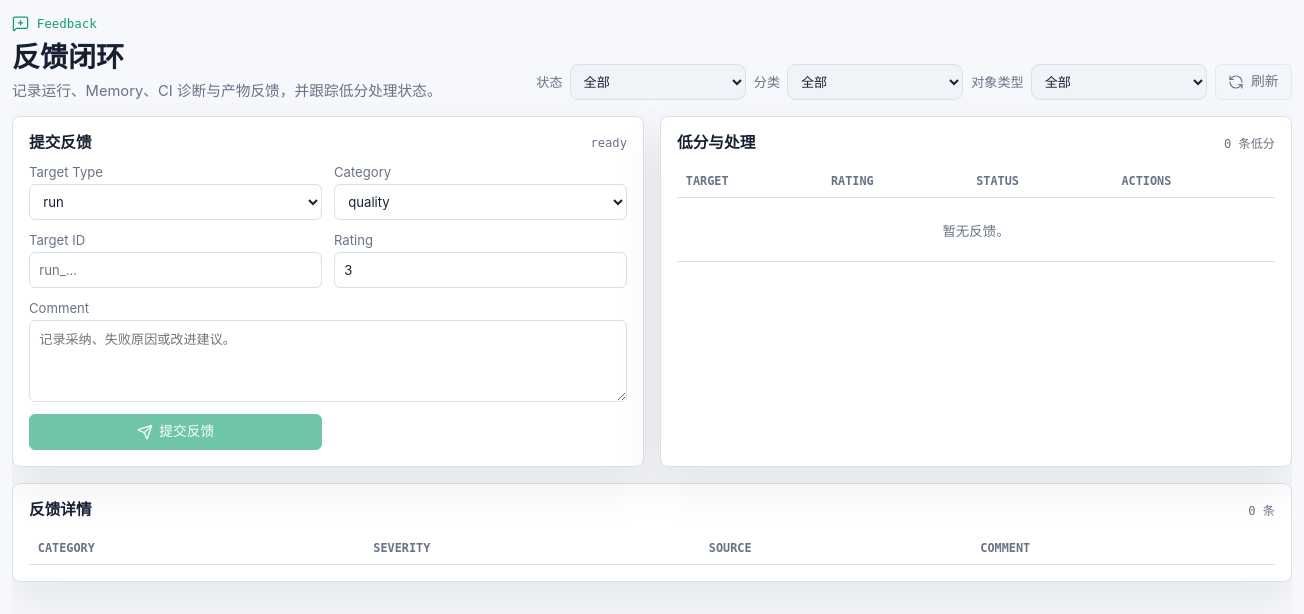
Test: FeedbackPage › disables submit until target id is filled
expect the button "提交反馈" is disabled: met, box [29,414,322,450]
Type "run_x" into the field with test id "feedback-target-id".
click(176, 270); type("run_x")  # box [29,252,322,288]
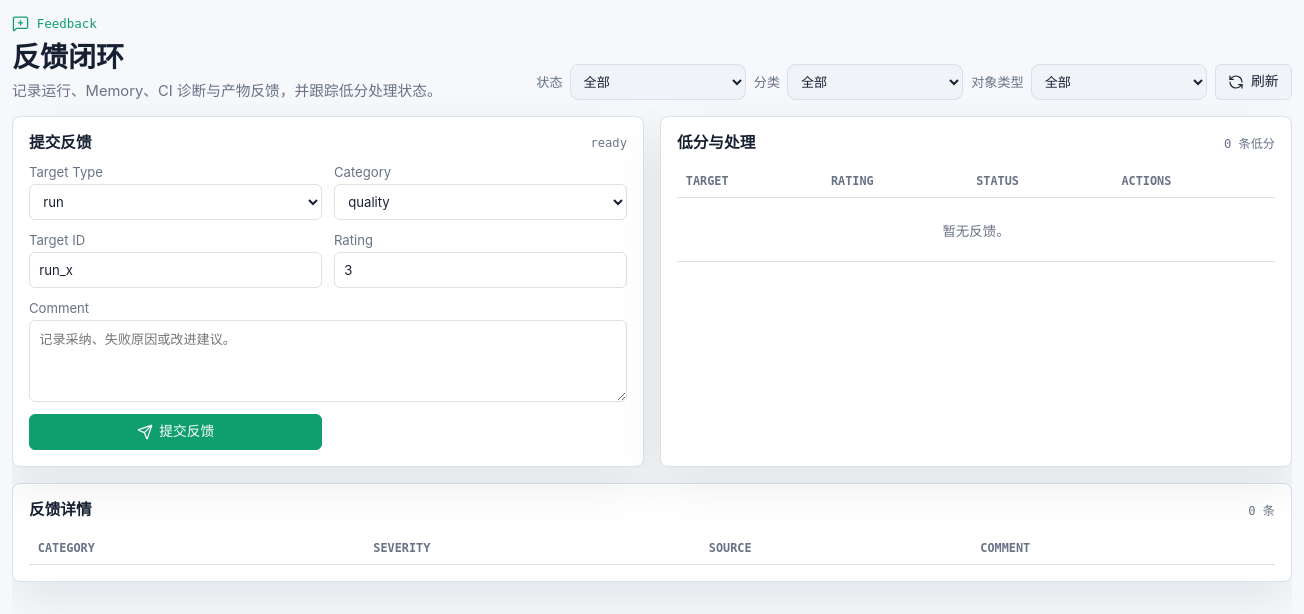
expect the button "提交反馈" is enabled: met, box [29,414,322,450]
